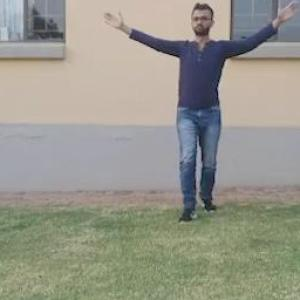takeoff: (102, 0, 294, 214)
